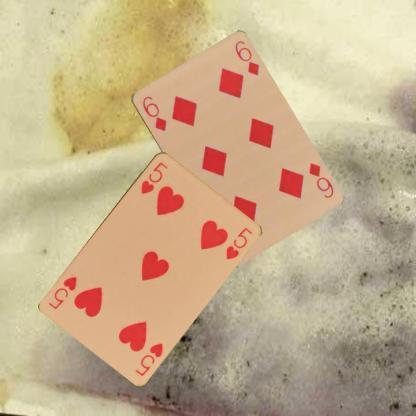5h: (132, 340, 164, 378), (138, 158, 168, 196)
6d: (306, 160, 336, 200), (139, 92, 168, 132)
